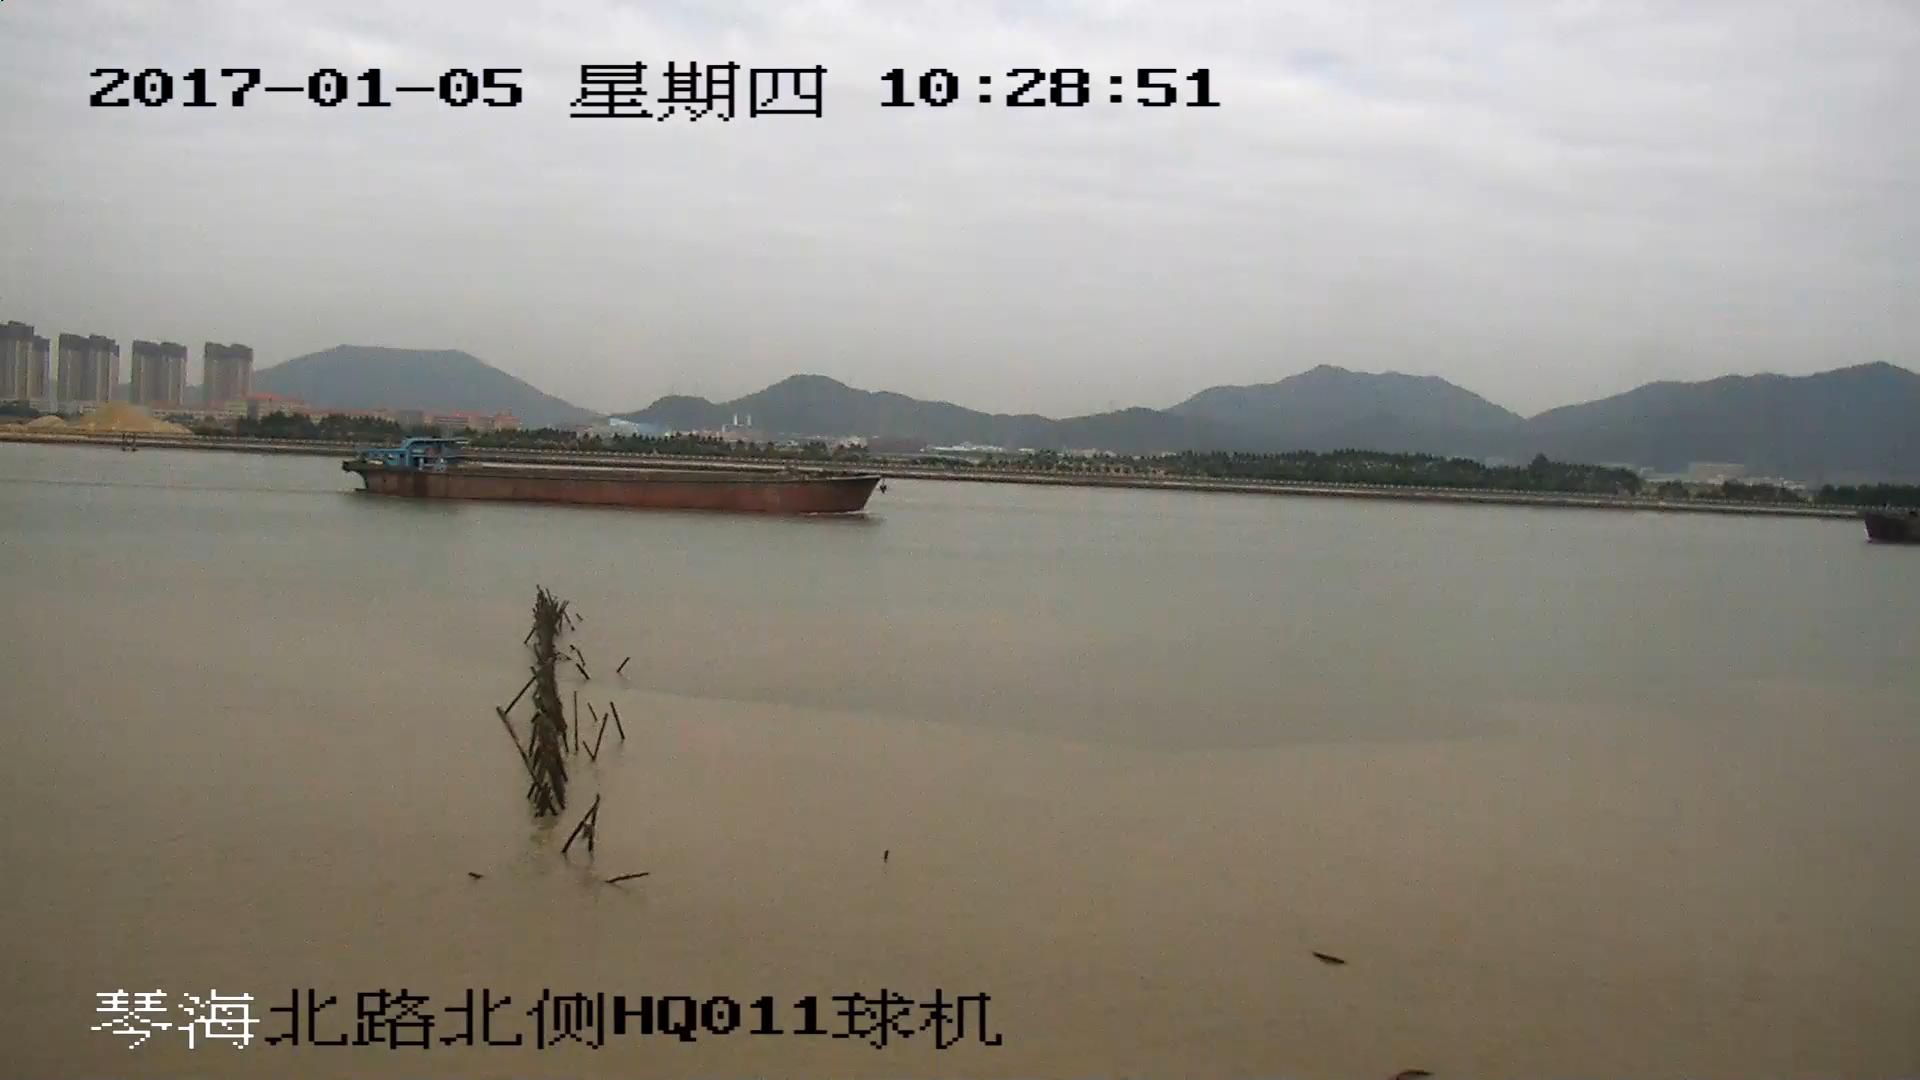bulk cargo carrier: (343, 436, 885, 513)
